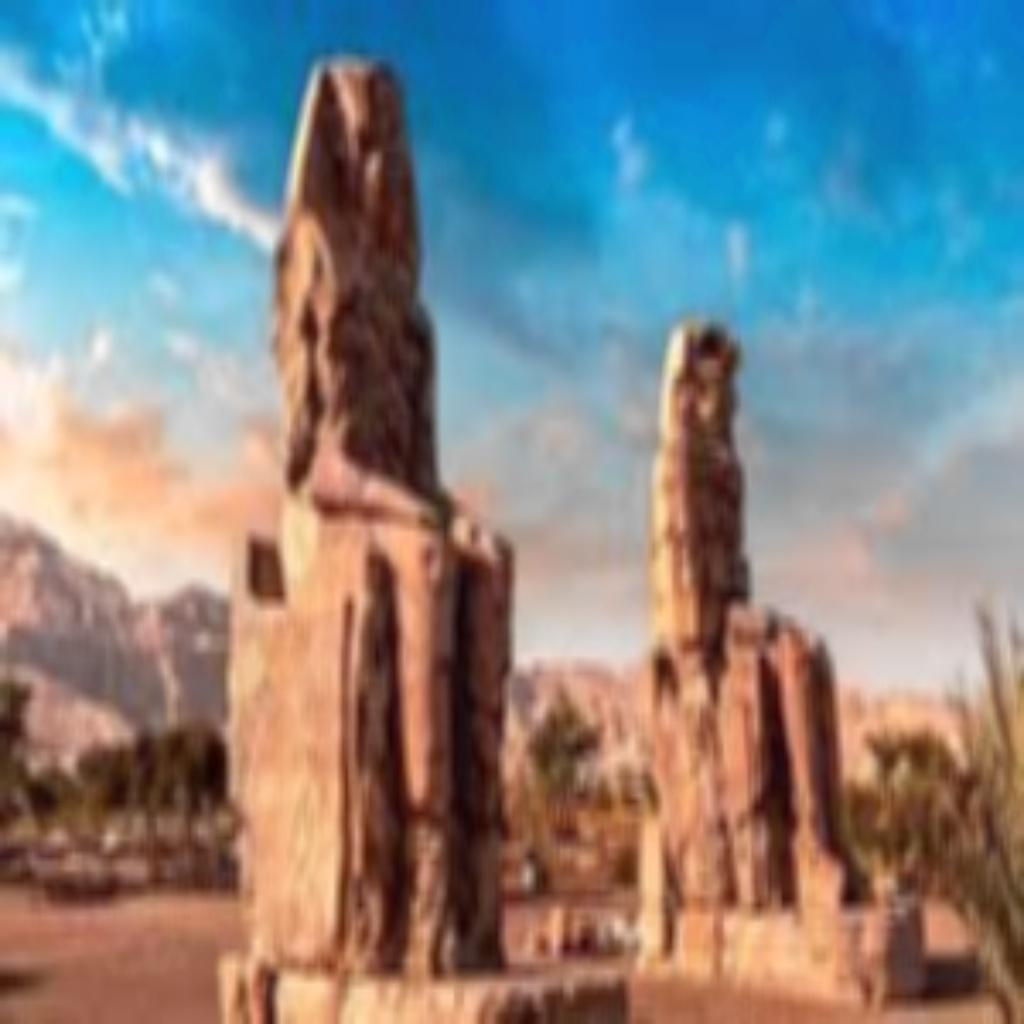Colossoi of Memnon: (215, 49, 519, 1012), (642, 310, 876, 946)
